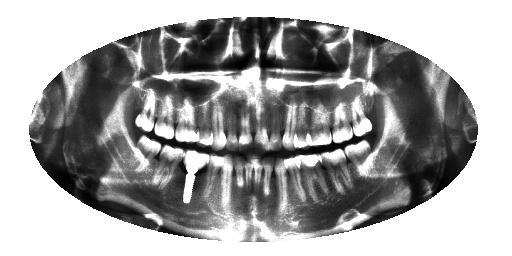i10healthy: (228, 150, 249, 213)
i11healthy: (217, 152, 236, 218)
i12healthy: (200, 147, 224, 213)
i13healthy: (174, 141, 213, 213)
i14healthy: (147, 133, 187, 201)
i15healthy: (127, 130, 164, 184)
i2healthy: (338, 133, 382, 185)
i3healthy: (312, 143, 353, 196)
i4healthy: (292, 149, 328, 207)
i5healthy: (284, 150, 308, 208)
i6healthy: (271, 151, 291, 216)
i7healthy: (256, 152, 278, 209)
i8healthy: (250, 153, 267, 212)
i9healthy: (242, 152, 256, 211)
u10healthy: (220, 88, 242, 156)
u11healthy: (205, 86, 231, 153)
u12healthy: (192, 84, 217, 150)
u13healthy: (171, 84, 201, 150)
u14healthy: (150, 87, 177, 143)
u15healthy: (129, 76, 161, 137)
u2healthy: (346, 92, 374, 140)
u3healthy: (327, 94, 358, 148)
u4healthy: (303, 93, 333, 147)
u5healthy: (288, 91, 315, 151)
u6healthy: (276, 87, 304, 158)
u7healthy: (264, 91, 285, 156)
u8decay: (249, 87, 273, 157)
u9decay: (233, 92, 253, 154)
